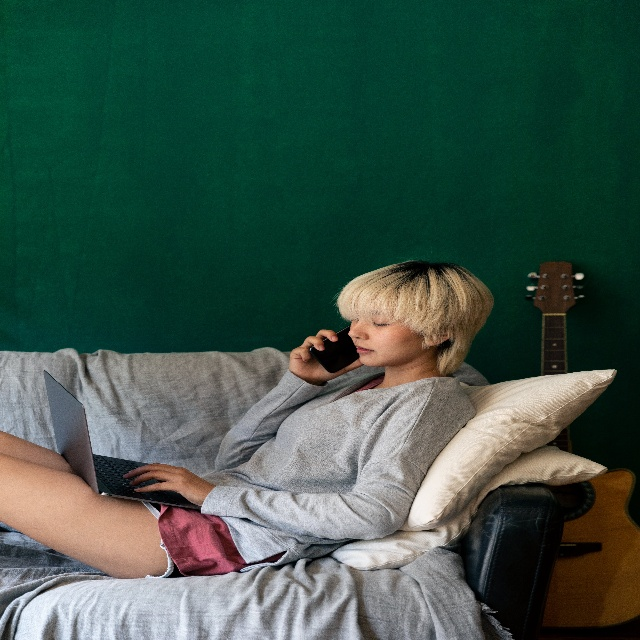Sin_guantes: (122, 462, 216, 506), (288, 329, 363, 381)
